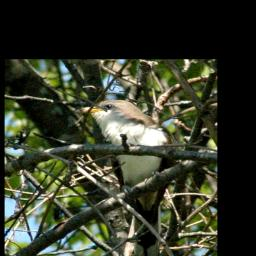Cuckoo: (74, 99, 179, 256)
